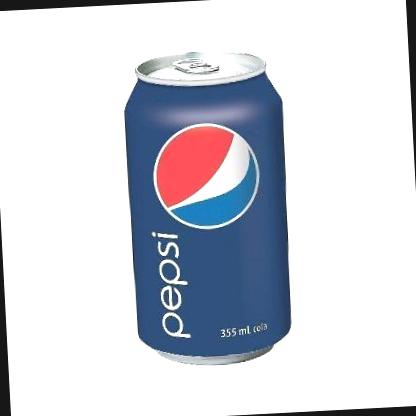alumunium_can: (122, 49, 297, 369)
